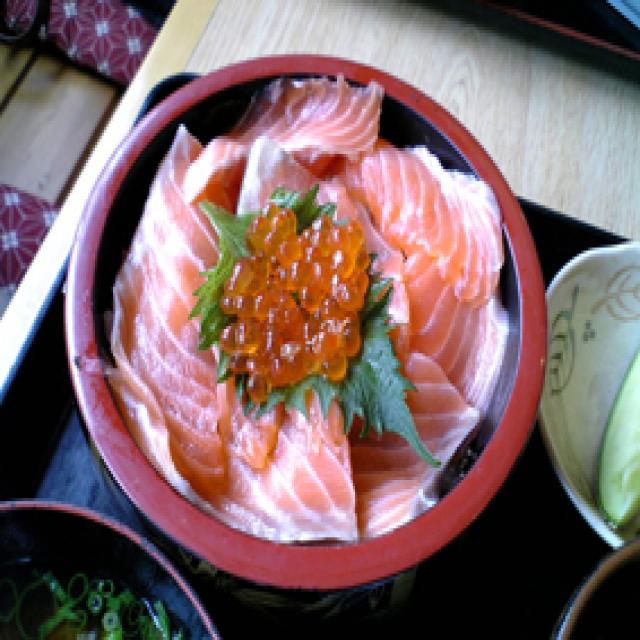刺身生食: (92, 139, 640, 640)
